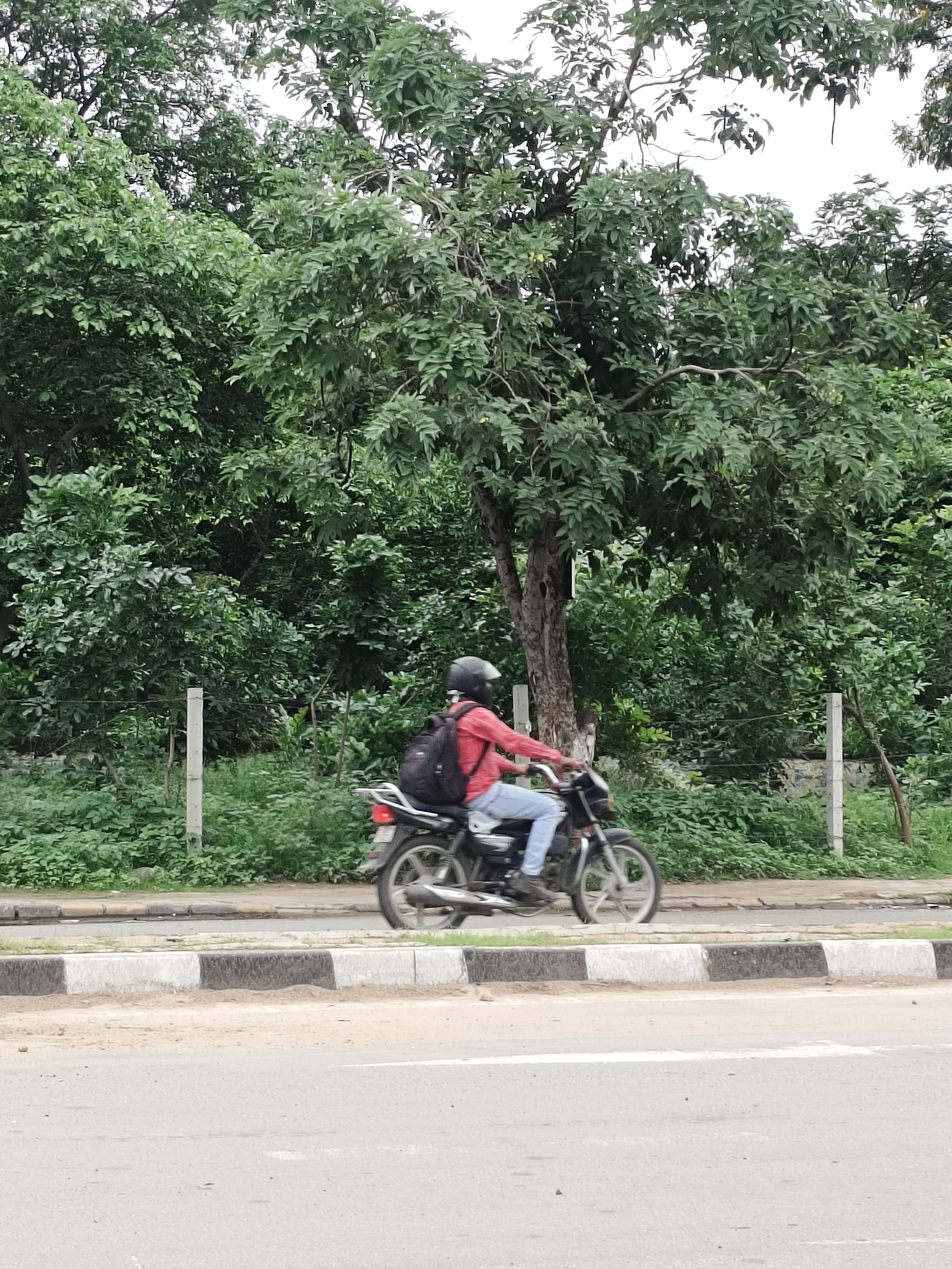BikeWithRider: (342, 648, 672, 942)
Helmet: (436, 648, 509, 711)
